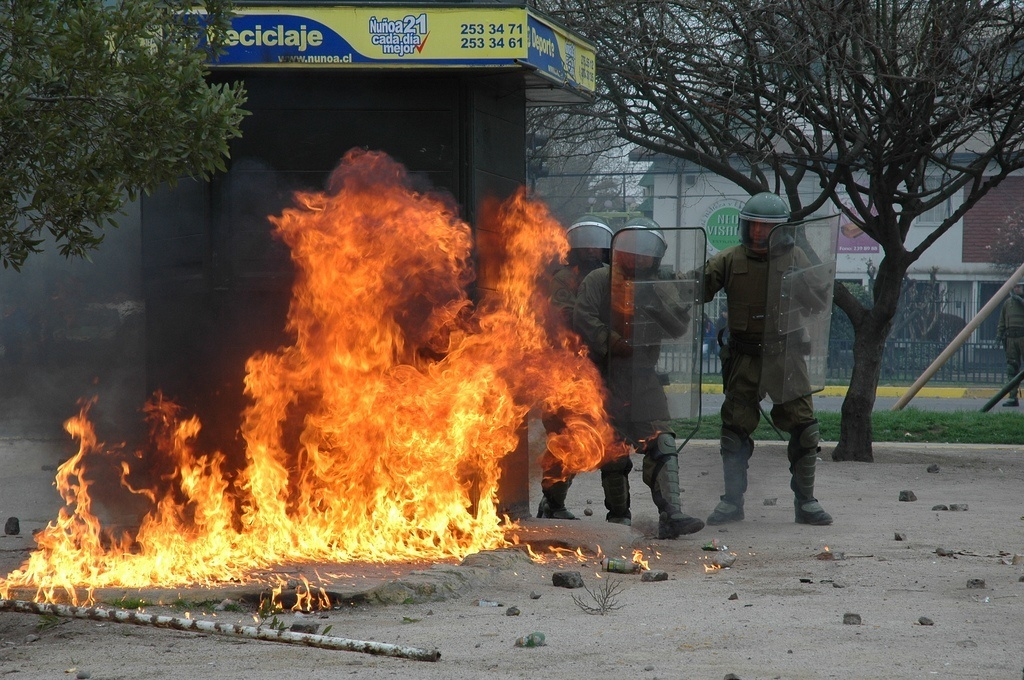fire: (37, 158, 630, 592)
